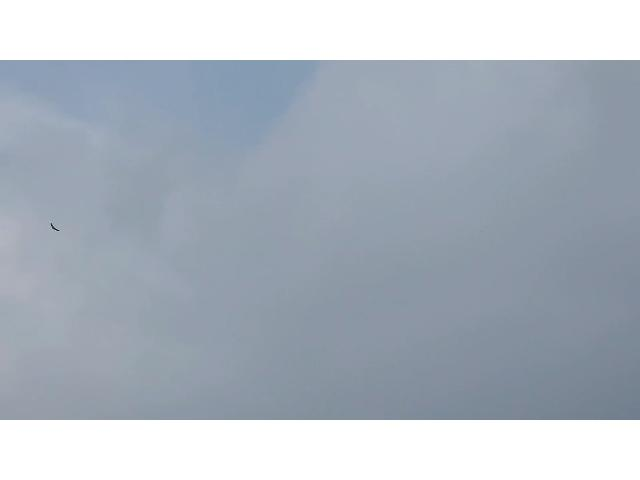Anti-Drone: (50, 223, 60, 232)
